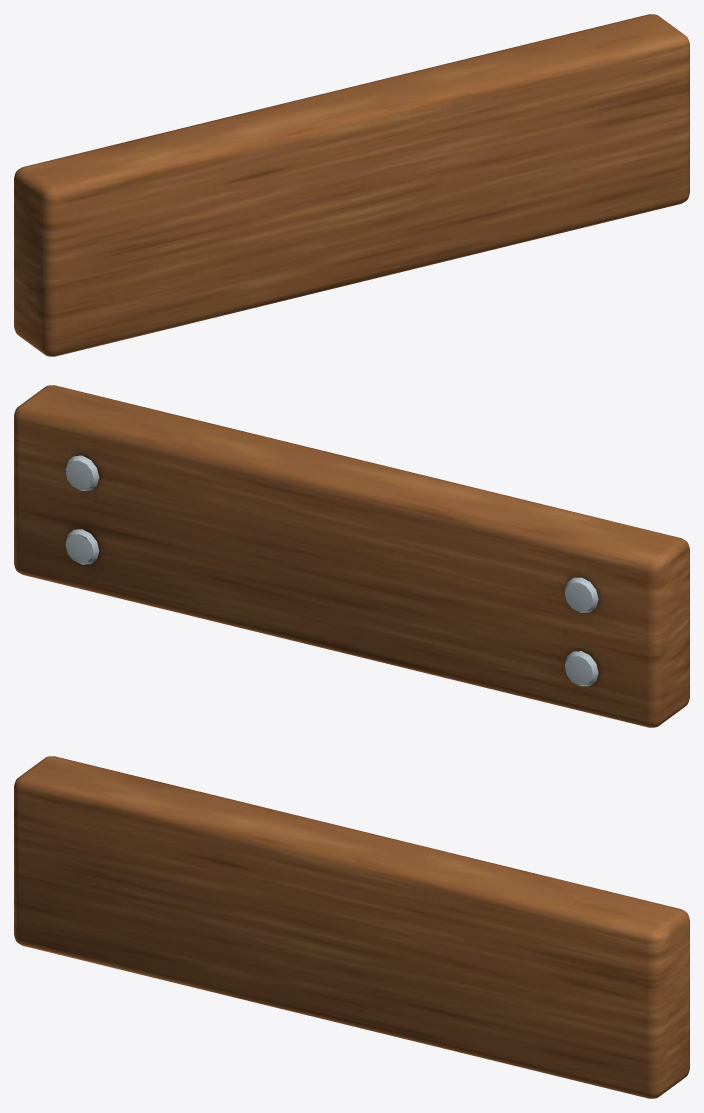
3 views of the same model, one above another, from view 1: azimuth 30°, elevation 25°; view 2: azimuth 150°, elevation 25°; view 3: azimuth 330°, elevation 25° (orthographic).
Parts seen in each view (by area): view 1: Warm_sanded_timber; view 2: Warm_sanded_timber, Polished_silver_steel; view 3: Warm_sanded_timber.
Boxes of the visible parts, box(x1,y1,x2,y2) form: Warm_sanded_timber: box(14, 14, 689, 356); Warm_sanded_timber: box(14, 385, 689, 727); Polished_silver_steel: box(65, 455, 598, 686); Warm_sanded_timber: box(14, 756, 689, 1098).
Size of the model in its own units: 0.92 by 0.23 by 0.104.
2 materials, 2 textured.
